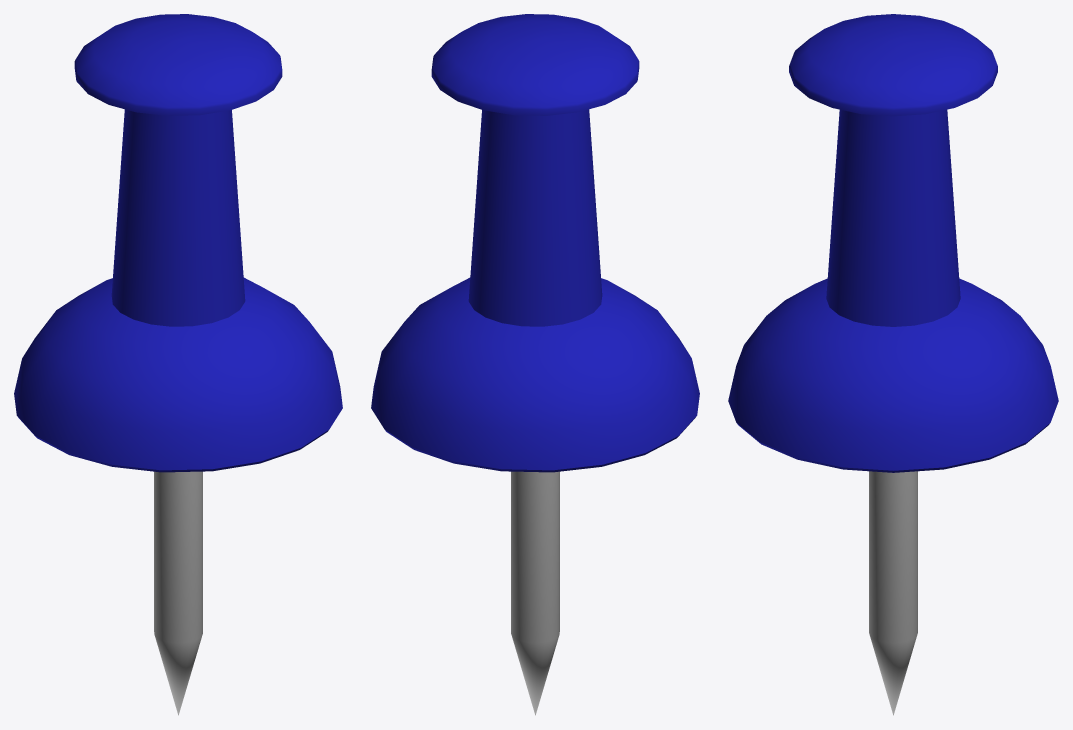
Rendered from PushPin.fbx.
The picture shows the model from 3 angles, left to right: view 1: azimuth 30°, elevation 25°; view 2: azimuth 150°, elevation 25°; view 3: azimuth 270°, elevation 25°; orthographic projection.
Visible parts, largest first — view 1: Sphere; view 2: Sphere; view 3: Sphere.
Part boxes in pixels (x1,y1,x2,y2): Sphere: (14,14,342,715); Sphere: (371,14,699,715); Sphere: (728,14,1058,715).
Bounding box in the file's own units: 92.29 × 209 × 92.29.
